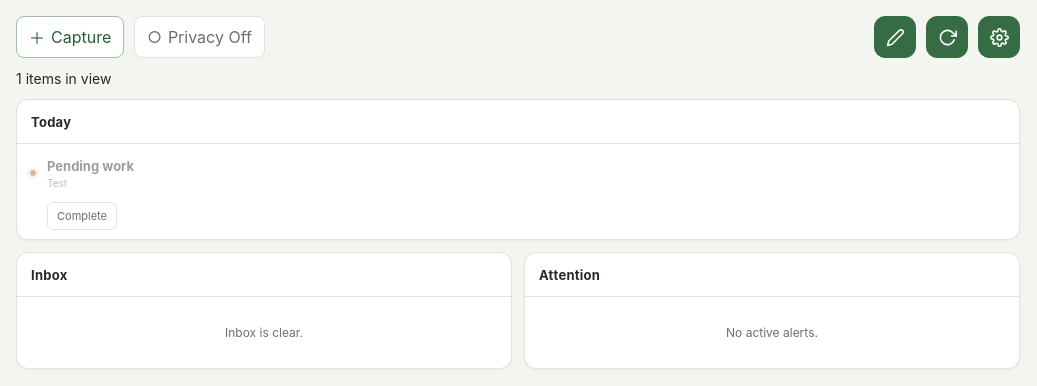
Test: disables a work card while its command is pending
Click the button "Complete" at (82, 216), box x1=47 y1=202 x2=117 y2=230
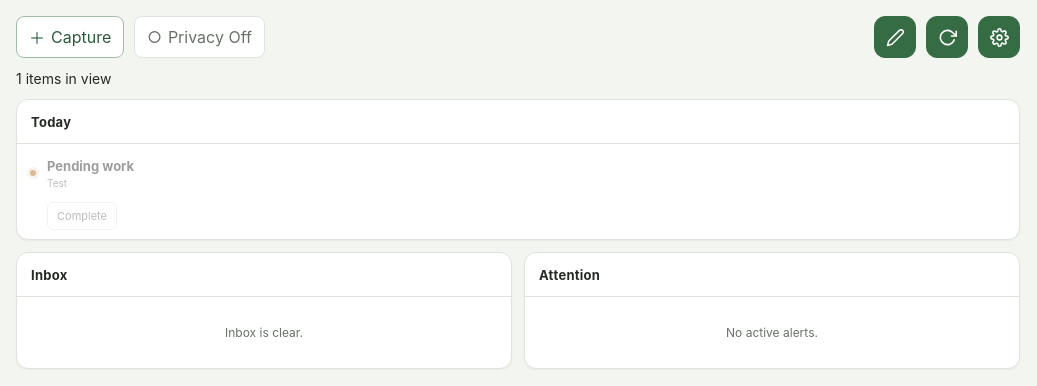
Expected: the button "Complete" is disabled
Click the button "Complete" at (82, 216), box x1=47 y1=202 x2=117 y2=230
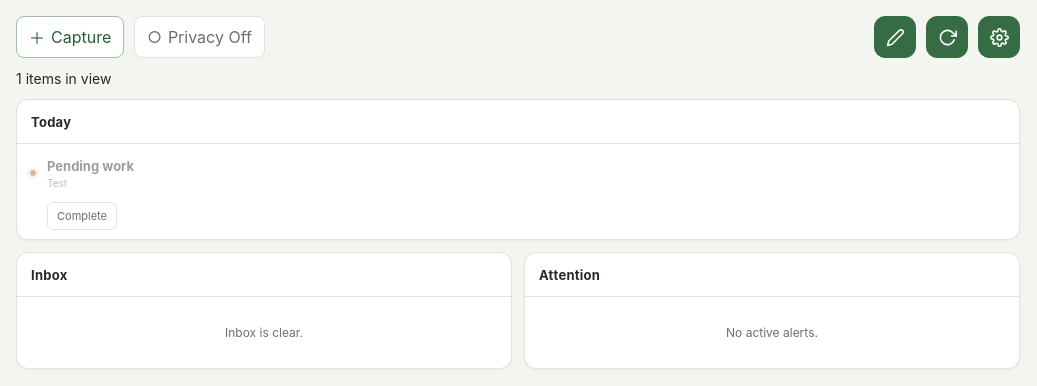
Expected: the button "Complete" is enabled, x1=47 y1=202 x2=117 y2=230
